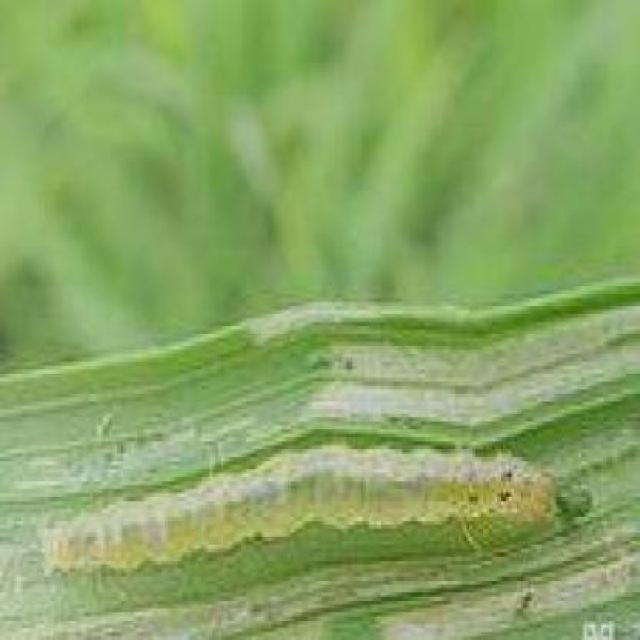leaf-folder: (21, 398, 612, 604)
